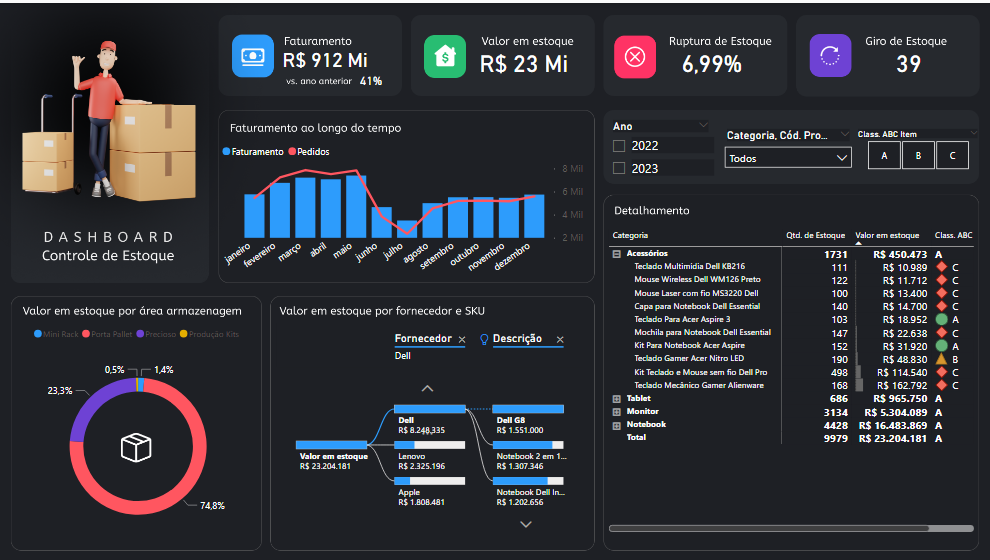

Layout of this report page (visuals, bound fields, positions):
{"tool":"powerbi","page":{"name":"Página 1","canvas":[1280,720],"ordinal":0},"visuals":[{"type":"card","fields":{"Values":["Estoque.Faturamento"]},"box":[331.9,38.6,175.6,68.5],"z":0},{"type":"card","fields":{"Values":["Medidas.Valor em estoque"]},"box":[572.2,34.2,208.3,84.2],"z":1000},{"type":"card","fields":{"Values":["Medidas.% de Ruptura Estoque"]},"box":[814.8,34.2,208.3,84.2],"z":2000},{"type":"card","fields":{"Values":["Medidas.Giro de Estoque"]},"box":[1068.8,34.2,208.3,84.2],"z":3000},{"type":"lineStackedColumnComboChart","fields":{"Category":["dCalendario.Date.Variation.Hierarquia de datas.Ano","dCalendario.Date.Variation.Hierarquia de datas.Mês"],"Y":["Medidas.Faturamento"],"Y2":["CountNonNull(Pedidos.Nº Ordem de Venda (OV))"]},"box":[281.1,171.2,476.6,188.4],"z":4000},{"type":"donutChart","fields":{"Y":["Medidas.Valor em estoque"],"Series":["Estoque.Descrição"]},"box":[28.5,408.1,299.7,301.1],"z":5000},{"type":"decompositionTreeVisual","fields":{"Analyze":["Medidas.Valor em estoque"],"ExplainBy":["Produtos.Fornecedor","Produtos.Descrição"]},"box":[352.5,408.1,405.3,301.1],"z":6000},{"type":"pivotTable","fields":{"Rows":["Produtos.Categoria","Produtos.Descrição"],"Values":["Sum(Estoque.Qtd. de Estoque Atual)","Medidas.Valor em estoque","Min(Produtos.Class. ABC Item)"]},"box":[780.6,286.8,480.9,401],"z":7000},{"type":"slicer","fields":{"Values":["Produtos.Categoria","Produtos.Cód. Produto (SKU)"]},"box":[925.5,157.3,184.3,63.8],"z":7001},{"type":"slicer","fields":{"Values":["Produtos.Class. ABC Item"]},"box":[1094.2,157.3,180,63.8],"z":7002},{"type":"slicer","fields":{"Values":["dCalendario.Date.Variation.Hierarquia de datas.Ano"]},"box":[778.1,146,148.8,87.9],"z":7003},{"type":"card","fields":{"Values":["Medidas.% YoY"]},"box":[431.9,86,93.1,28.1],"z":7004}]}

Visuals, with their boxes in screenshot pixels (x1, y1, x2, y2), scaled from the page's 1280x720 canvas onto the 990x560 screenshot:
card - Estoque.Faturamento: crop(257, 30, 393, 83)
card - Medidas.Valor em estoque: crop(443, 27, 604, 92)
card - Medidas.% de Ruptura Estoque: crop(630, 27, 791, 92)
card - Medidas.Giro de Estoque: crop(827, 27, 988, 92)
lineStackedColumnComboChart - dCalendario.Date.Variation.Hierarquia de datas.Ano x dCalendario.Date.Variation.Hierarquia de datas.Mês: crop(217, 133, 586, 280)
donutChart - Medidas.Valor em estoque x Estoque.Descrição: crop(22, 317, 254, 552)
decompositionTreeVisual - Medidas.Valor em estoque x Produtos.Fornecedor: crop(273, 317, 586, 552)
pivotTable - Produtos.Categoria x Produtos.Descrição: crop(604, 223, 976, 535)
slicer - Produtos.Categoria x Produtos.Cód. Produto (SKU): crop(716, 122, 858, 172)
slicer - Produtos.Class. ABC Item: crop(846, 122, 986, 172)
slicer - dCalendario.Date.Variation.Hierarquia de datas.Ano: crop(602, 114, 717, 182)
card - Medidas.% YoY: crop(334, 67, 406, 89)
